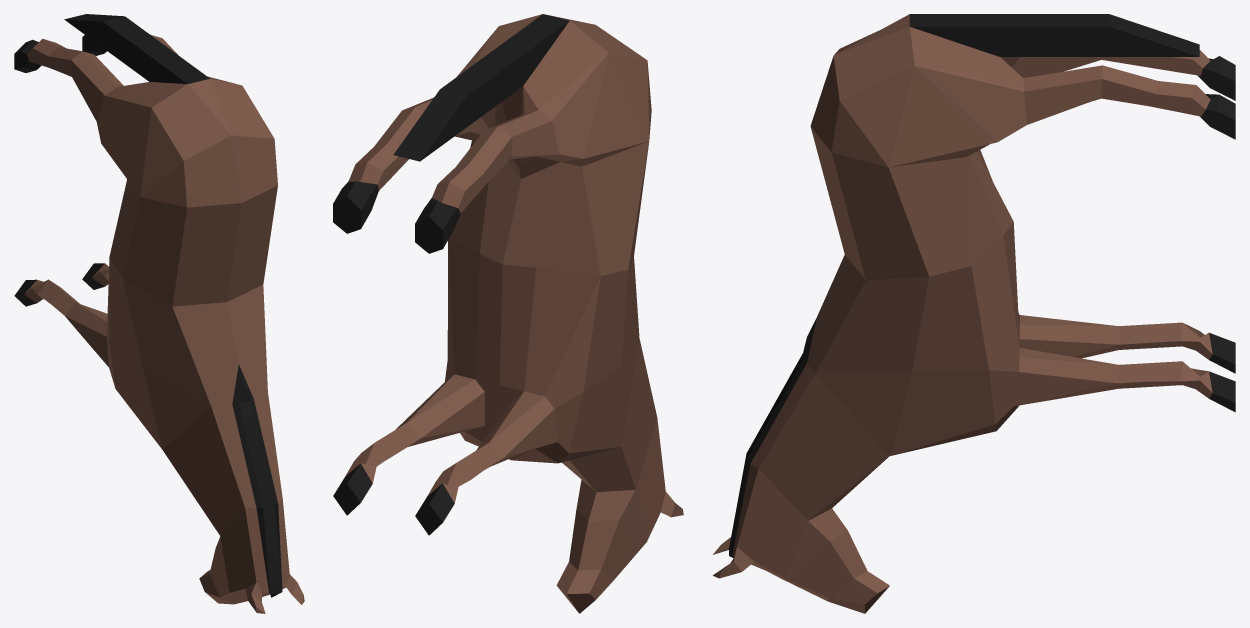
File: d8158001-03ef-4cc2-9dad-bc912919d17f.glb
3 renders of one model, left to right at view 1: azimuth 30°, elevation 25°; view 2: azimuth 150°, elevation 25°; view 3: azimuth 270°, elevation 25°, orthographic. The views are drawn at different scales.
Parts seen in each view (by area): view 1: pCube75; view 2: pCube75; view 3: pCube75.
Part boxes in pixels (box(x1,y1,x2,y2)): pCube75: box(14, 14, 304, 613); pCube75: box(333, 14, 683, 613); pCube75: box(713, 14, 1235, 613).
Bounding box in the file's own units: 197 × 704 × 563.
